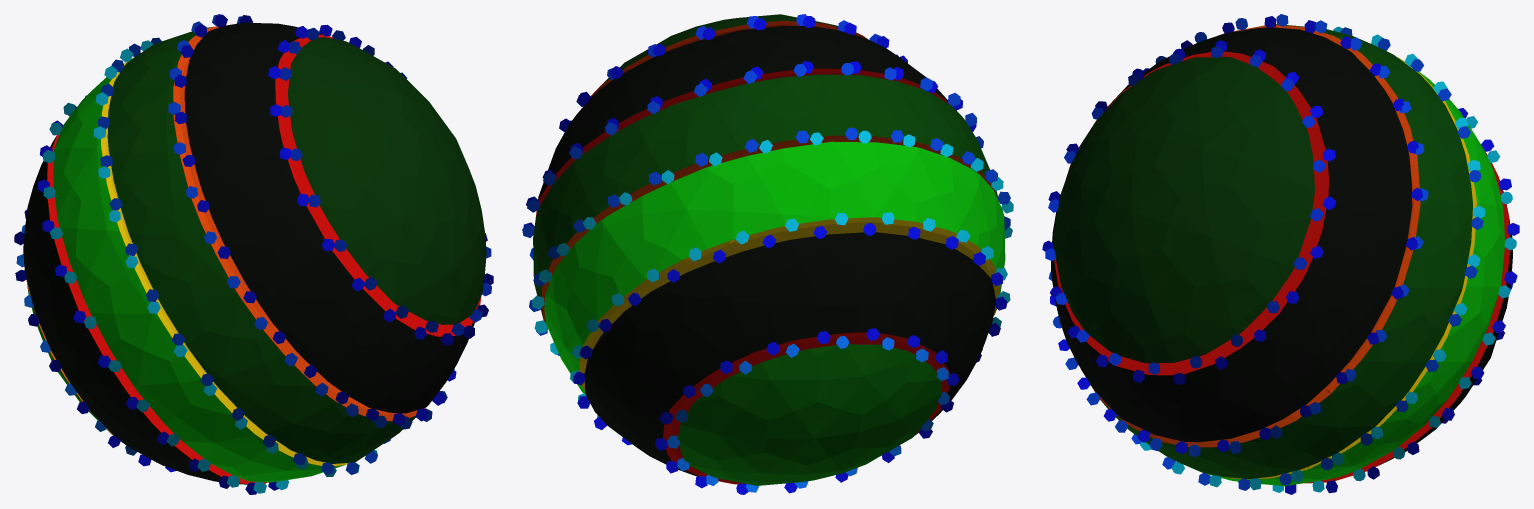
3 views of the same model, side by side, from view 1: azimuth 30°, elevation 25°; view 2: azimuth 150°, elevation 25°; view 3: azimuth 270°, elevation 25° (orthographic). The views are drawn at different scales.
Parts seen in each view (by area): view 1: Sphere_B; view 2: Sphere_B; view 3: Sphere_B.
Part boxes in pixels (x1,y1,x2,y2): Sphere_B: (14, 14, 493, 494); Sphere_B: (522, 14, 1013, 494); Sphere_B: (1042, 14, 1519, 494).
Size of the model in its own units: 1504 by 1507 by 1508.
